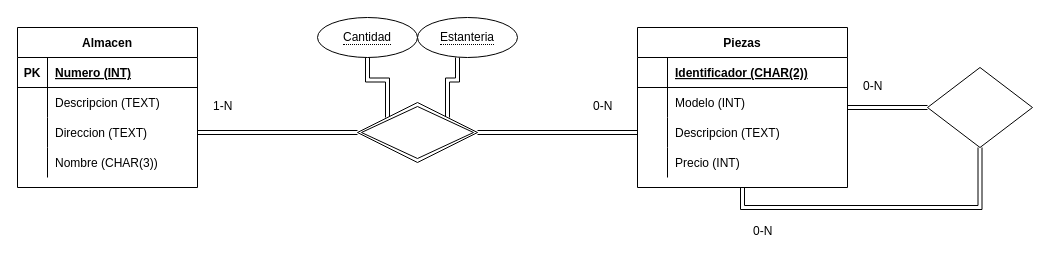
This 1050x268 diagram has some shape labels left out. Each missing label, with the centre of its shape:
Compuesta por: point (979, 107)
Guarda: point (417, 132)
